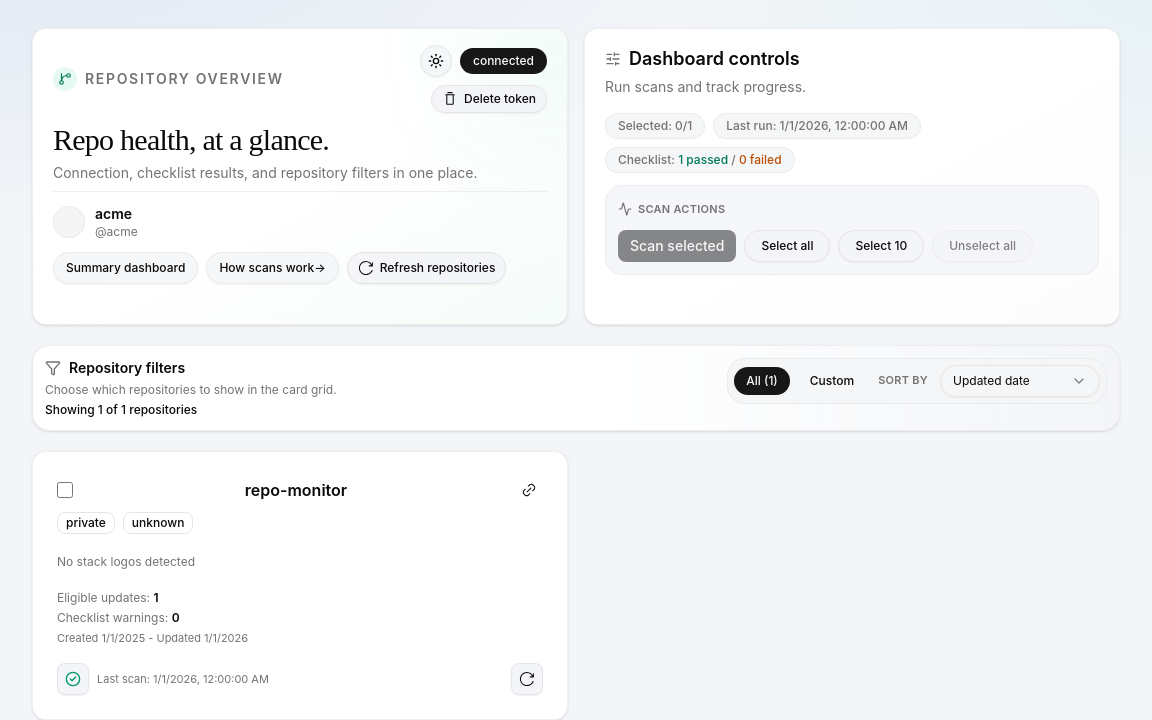
Test case: RepoHealthSetup › shows only packages that need updates in detail modal
expect the text "repo-monitor" is shown: met, box [245, 478, 347, 502]
What coordinates should you click on to do the following:
click the button named "Open details (All good)"
I would click on:
 (73, 679)
Its box is [57, 663, 89, 695].
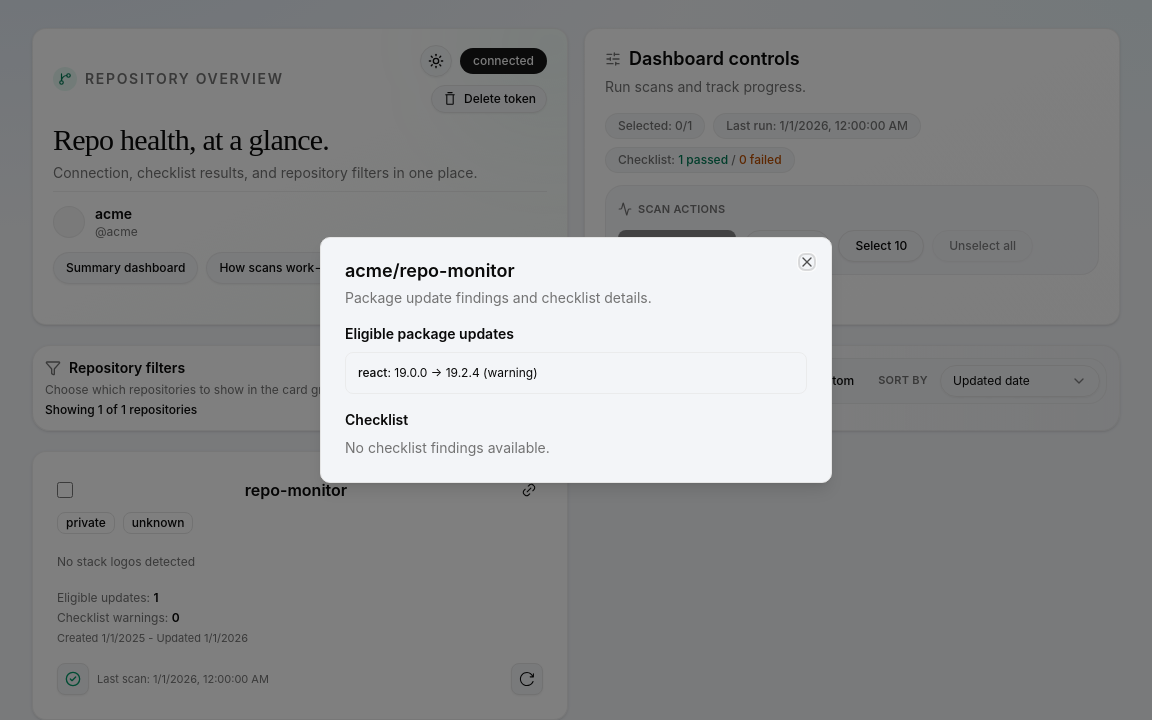
expect the text "react" is shown: met, box [358, 365, 387, 380]
